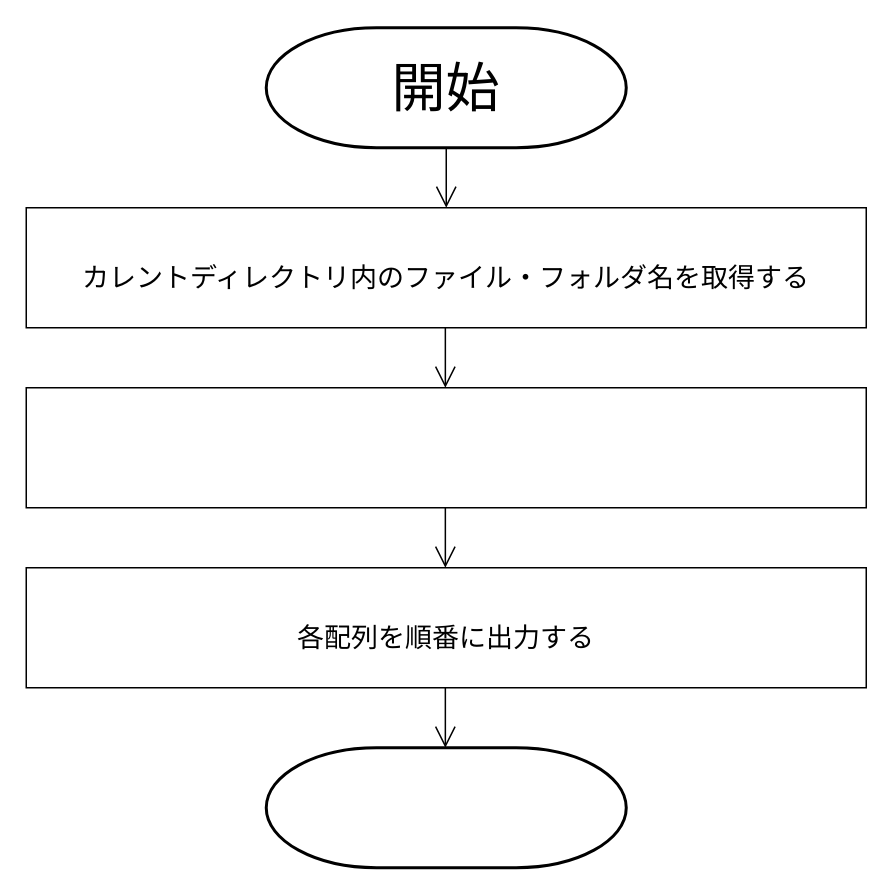
Some shapes in this 893 by 894 pixel diagram are drawn without their labels. Here are the shapes that lost their labels. From the top down, the centre of each, then its label:
At point (445, 447): "取得した要素数に合わせて縦３列の順番となるように並び替え、 要素が３つずつ入った２次元配列に格納する".
At point (445, 807): "終了".
